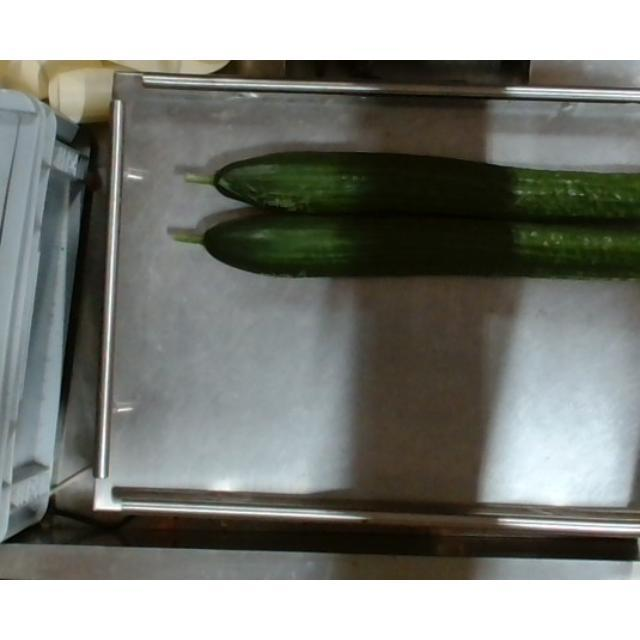cucumber: (186, 146, 640, 220), (168, 210, 640, 280)
